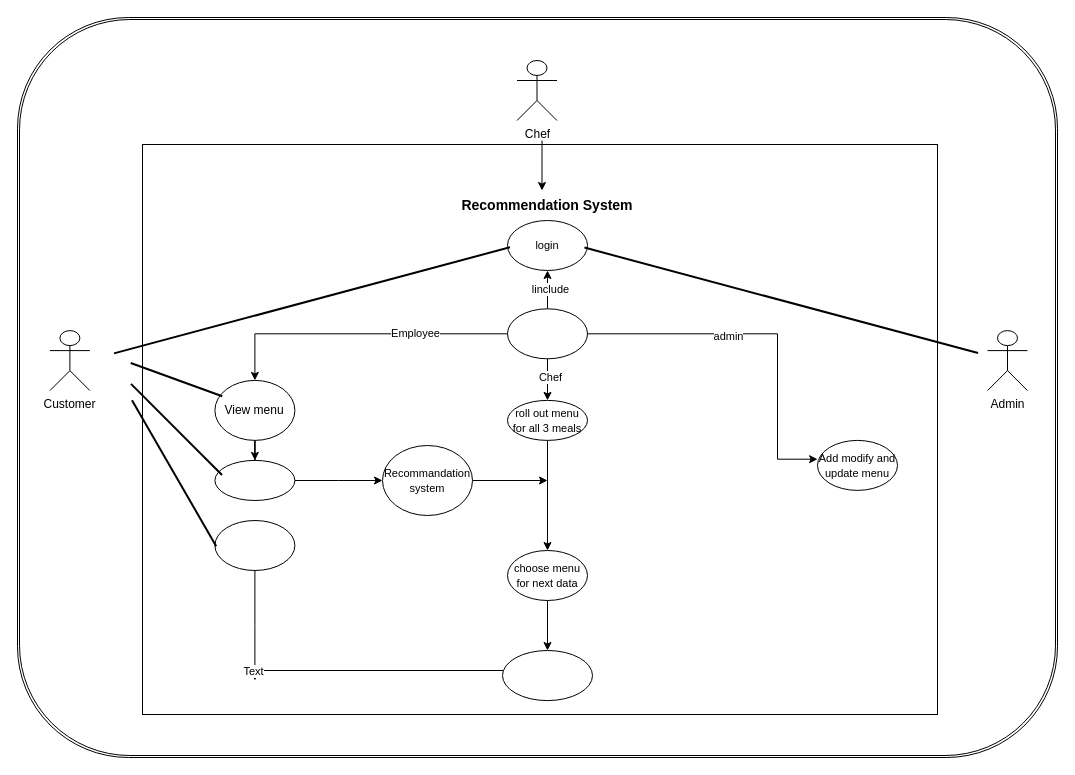
Some shapes in this 1075 by 775 pixel diagram are drawn without their labels. The box of each missing label's shape, as (x1, y1, x2, y2) in pixels:
Give feedback Items in menu: (214, 459, 295, 500)
see notification: (214, 520, 295, 570)
Send notifiaction: (502, 650, 592, 701)
verify login: (506, 308, 588, 359)
